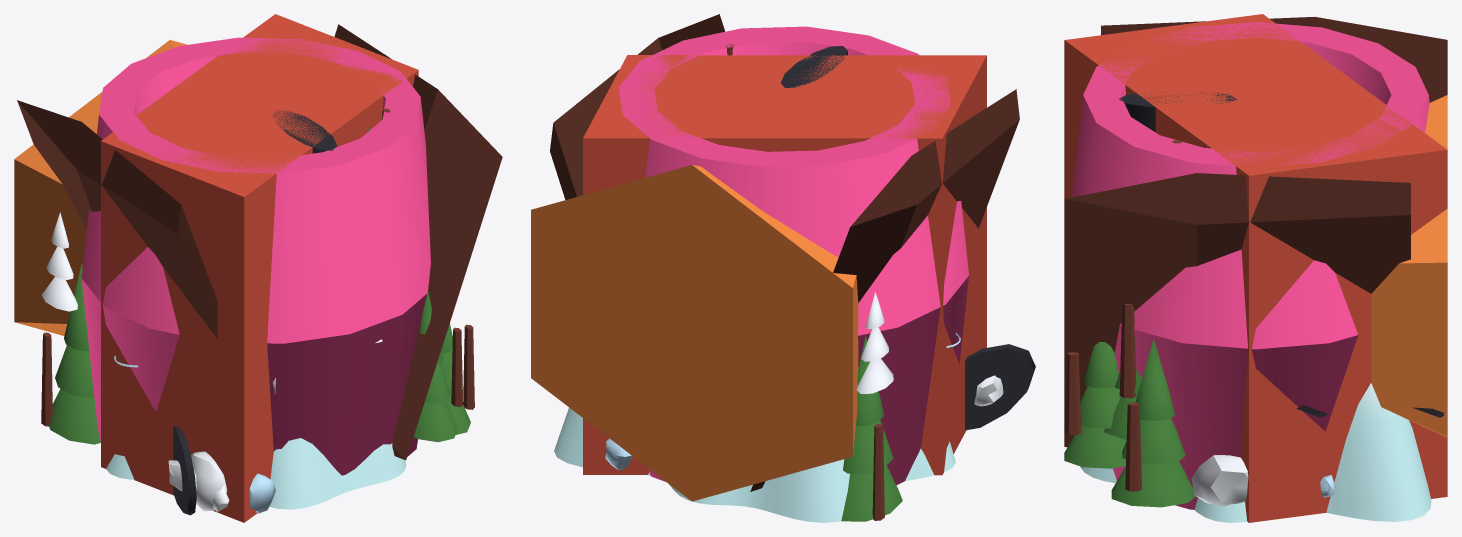
Rendered from ile-givre.glb.
The picture shows the model from 3 angles, left to right: view 1: azimuth 30°, elevation 25°; view 2: azimuth 150°, elevation 25°; view 3: azimuth 270°, elevation 25°; orthographic projection. The views are drawn at different scales.
Parts seen in each view (by area): view 1: givre_decor, givre_terrain; view 2: givre_decor, givre_terrain; view 3: givre_decor, givre_terrain.
Part boxes in pixels (box(x1,y1,x2,y2)): givre_decor: box(14, 14, 502, 522); givre_terrain: box(106, 438, 406, 509); givre_decor: box(531, 14, 1035, 521); givre_terrain: box(554, 407, 955, 522); givre_decor: box(1064, 14, 1447, 522); givre_terrain: box(1080, 383, 1431, 522).
Size of the model in its own units: 2 by 2 by 2.
